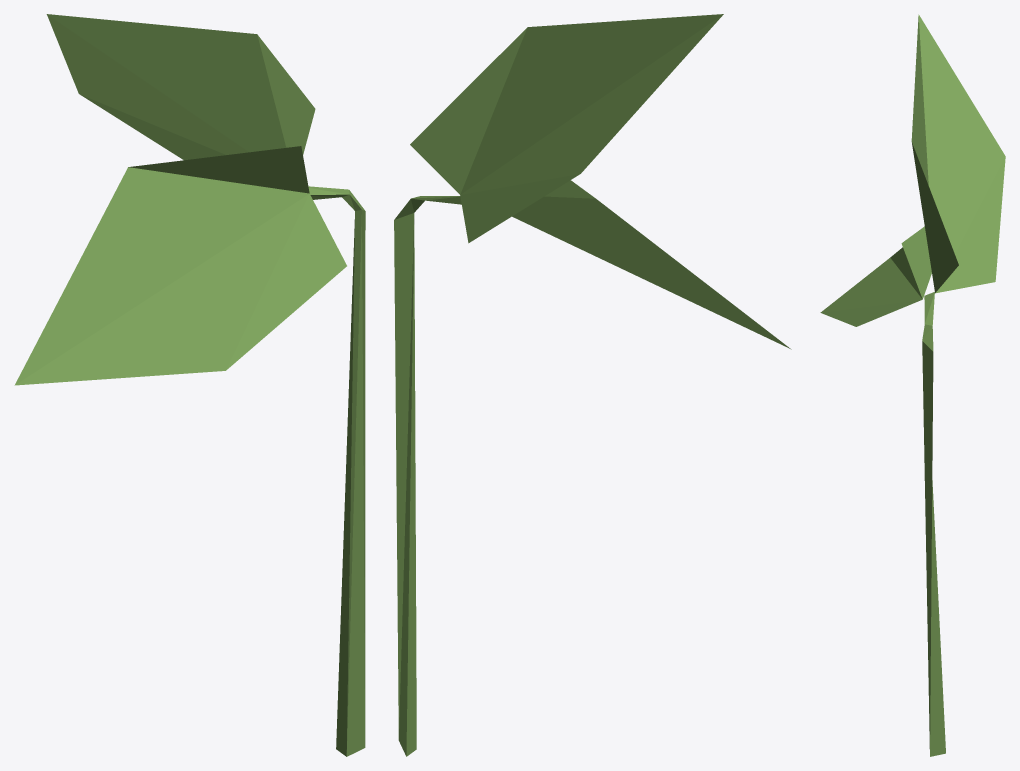
Rendered from Peppers_1.fbx.
3 renders of one model, left to right at view 1: azimuth 30°, elevation 25°; view 2: azimuth 150°, elevation 25°; view 3: azimuth 270°, elevation 25°, orthographic. The views are drawn at different scales.
Visible parts, largest first — view 1: Peppers_1; view 2: Peppers_1; view 3: Peppers_1.
Boxes of the visible parts, box(x1,y1,x2,y2) form: Peppers_1: box(14, 14, 365, 756); Peppers_1: box(394, 14, 791, 756); Peppers_1: box(820, 14, 1005, 756).
Bounding box in the file's own units: 13.5 × 27.99 × 7.52.
